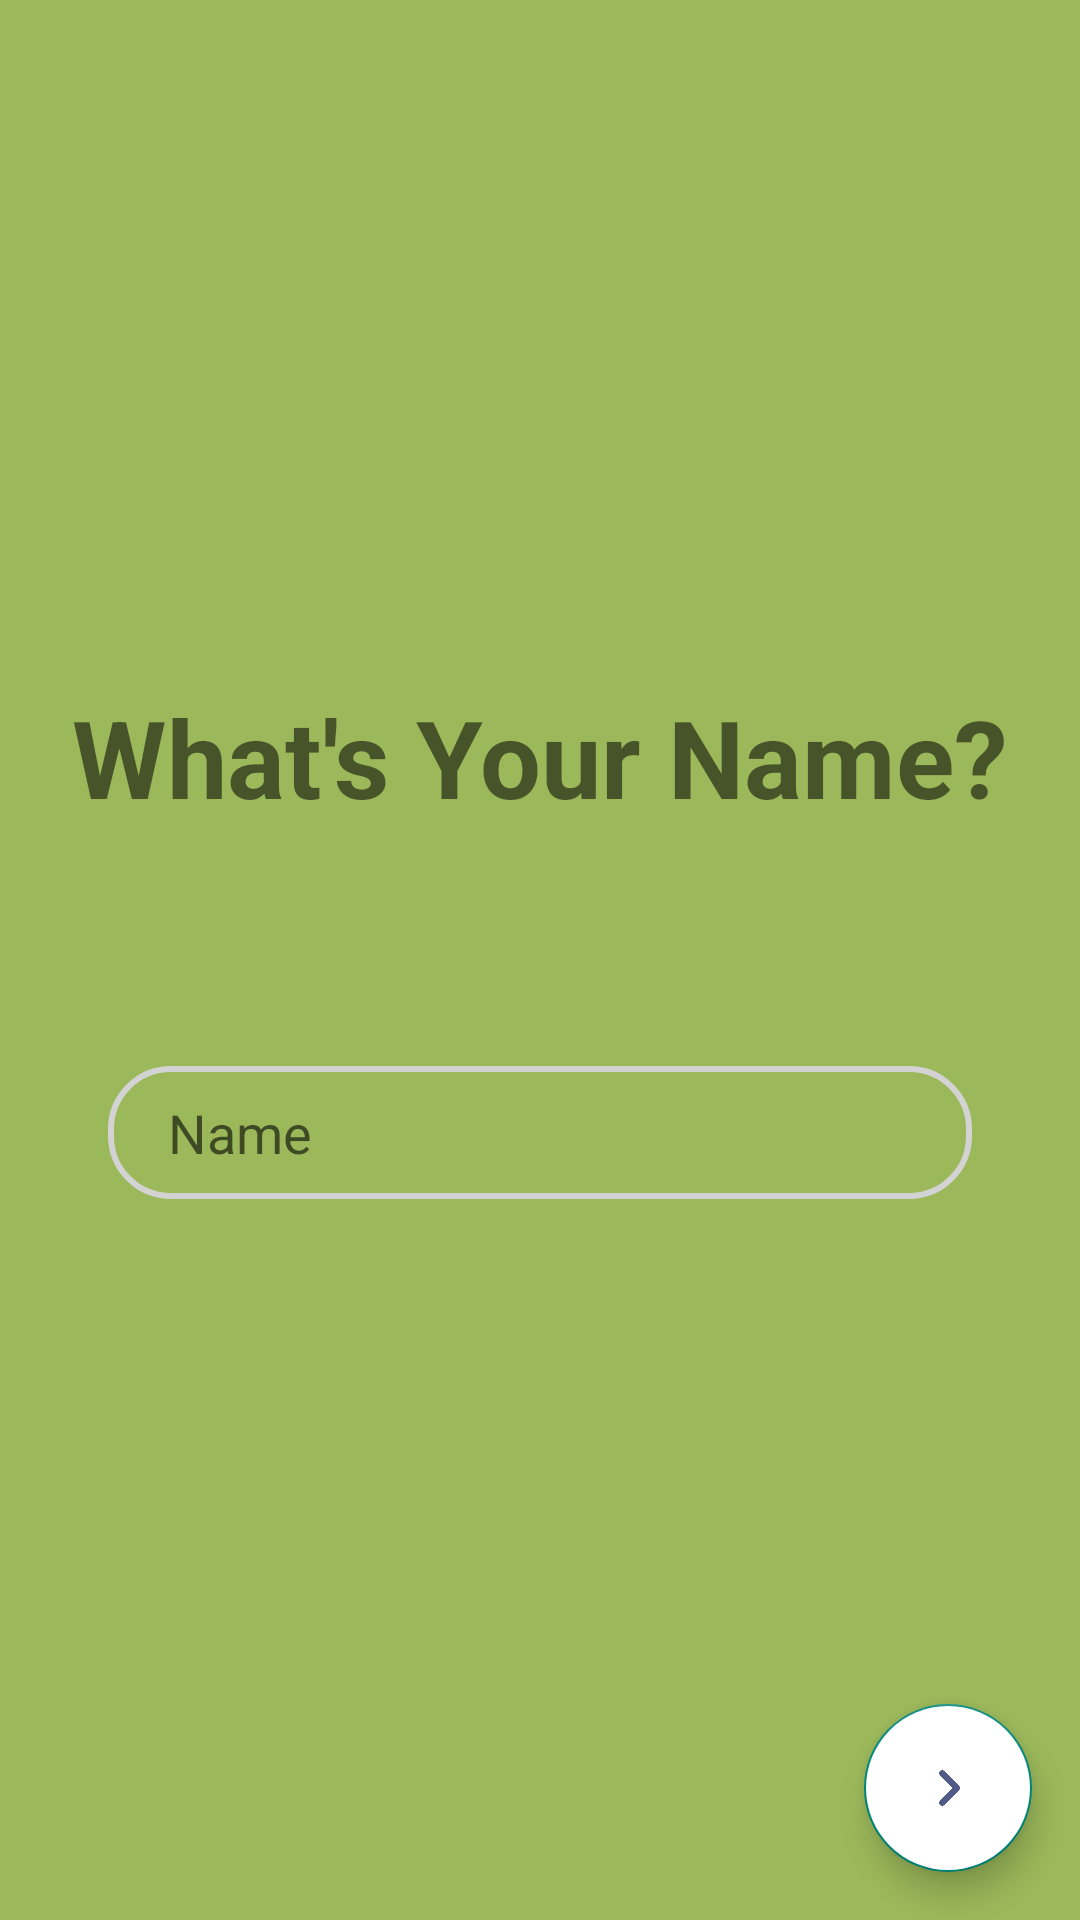

Screen size 1080×1920. Icon name, then its box in pixels as rect(x1, y1, x2, y2):
next: rect(864, 1704, 1032, 1872)
